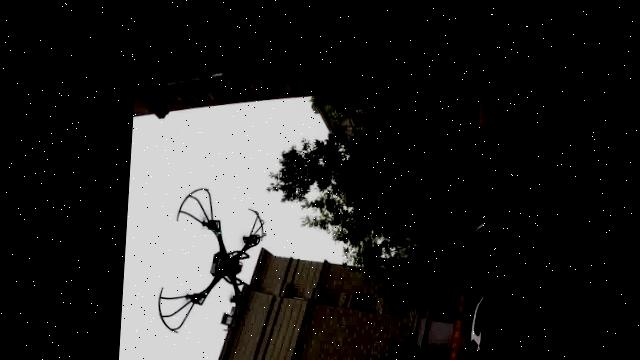drone: (157, 183, 273, 341)
